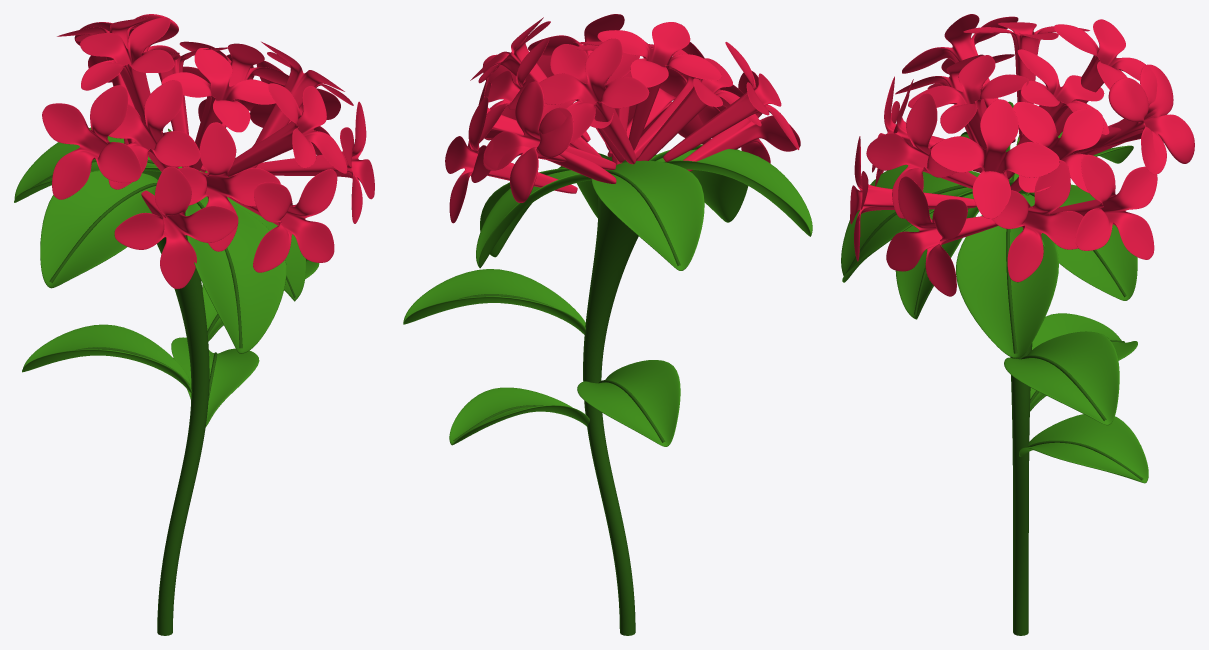
File: Bouvardia.glb
3 renders of one model, left to right at view 1: azimuth 30°, elevation 25°; view 2: azimuth 150°, elevation 25°; view 3: azimuth 270°, elevation 25°, orthographic.
Parts seen in each view (by area): view 1: Plane.230, Plane.233, Plane.235, NurbsPath.283, Plane.386, Plane.388, Plane.231, Plane.382, Plane.384, Plane.234; view 2: Plane.230, NurbsPath.283, Plane.231, Plane.386, Plane.384, Plane.233, Plane.388, Plane.239, Plane.235, Plane.237; view 3: Plane.230, Plane.237, Plane.384, Plane.388, NurbsPath.283, Plane.239, Plane.235, Plane.386, Plane.382, Plane.231.
Part boxes in pixels (x1,y1,x2,y2): Plane.230: (42, 14, 374, 288); Plane.233: (40, 171, 157, 288); Plane.235: (185, 196, 286, 353); NurbsPath.283: (142, 170, 209, 635); Plane.386: (22, 324, 192, 393); Plane.388: (171, 337, 259, 426); Plane.231: (14, 127, 182, 202); Plane.382: (227, 197, 305, 301); Plane.384: (202, 260, 319, 341); Plane.234: (49, 183, 156, 282); Plane.230: (445, 14, 800, 223); NurbsPath.283: (583, 156, 638, 635); Plane.231: (591, 160, 704, 270); Plane.386: (577, 360, 680, 446); Plane.384: (403, 269, 585, 334); Plane.233: (655, 149, 812, 236); Plane.388: (449, 387, 589, 445); Plane.239: (476, 170, 591, 268); Plane.235: (649, 144, 748, 222); Plane.237: (480, 166, 570, 257); Plane.230: (850, 14, 1194, 296); Plane.237: (956, 194, 1058, 358); Plane.384: (1004, 331, 1119, 425); Plane.388: (1019, 414, 1148, 483); NurbsPath.283: (1009, 175, 1032, 635); Plane.239: (1021, 184, 1137, 300); Plane.235: (841, 164, 979, 282); Plane.386: (1030, 313, 1137, 411); Plane.382: (895, 193, 978, 319); Plane.231: (1013, 131, 1133, 195).
Size of the model in its own units: 4.58 by 7.92 by 4.21.
